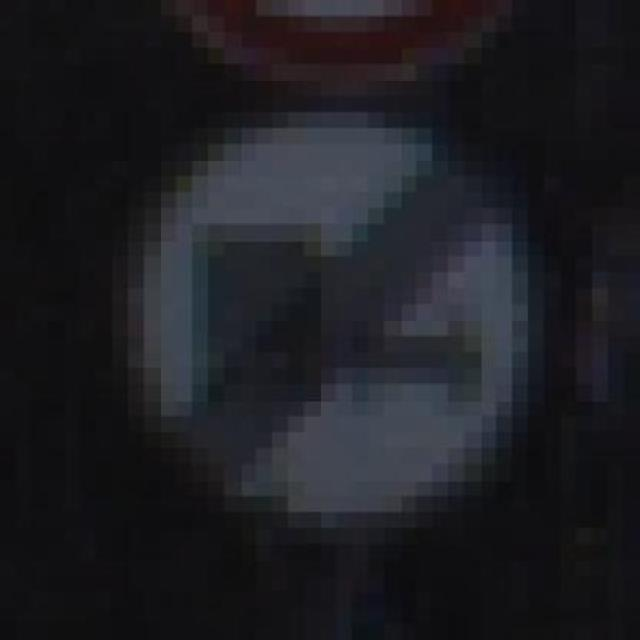Overtaking by trucks is prohibited: (80, 111, 560, 528)
